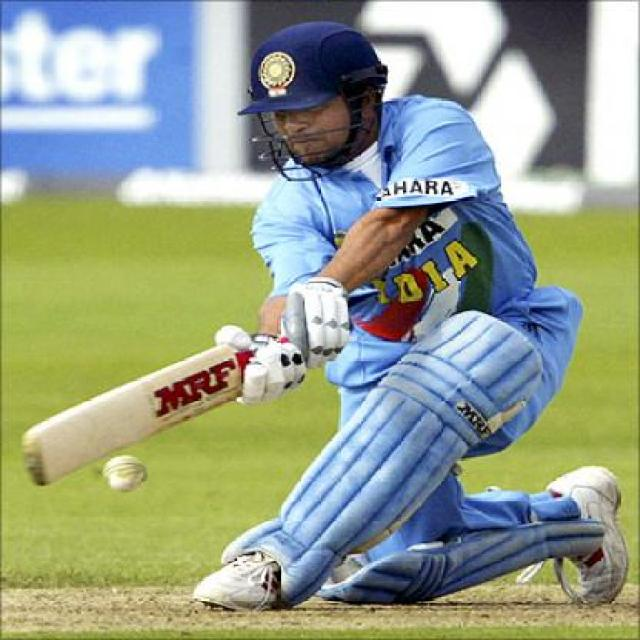ball: (80, 419, 216, 518)
